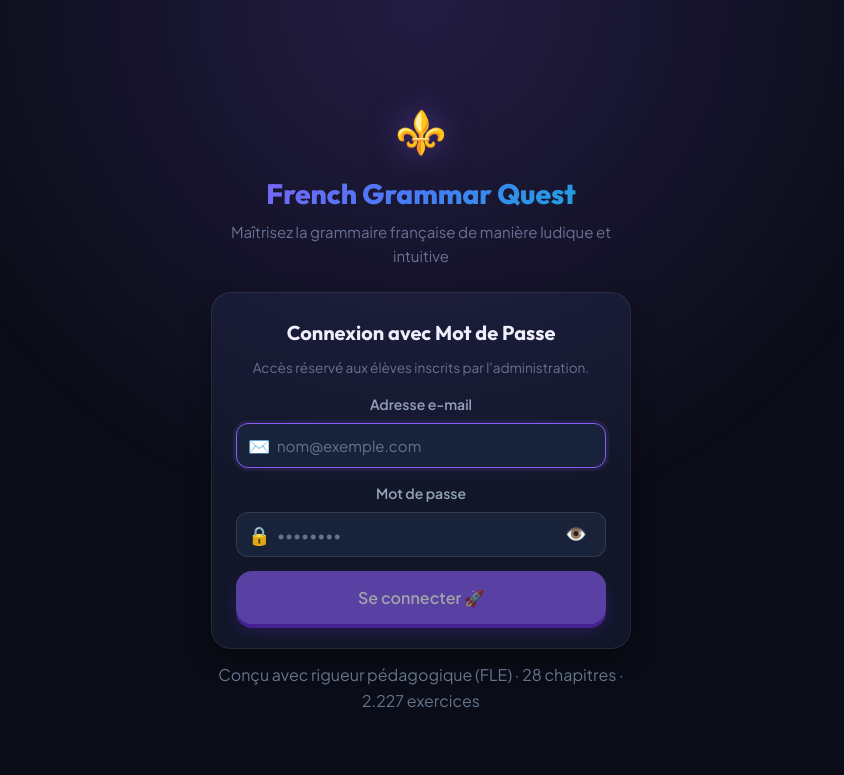
Test: LoginPage › displays error and rejects login for unregistered student
In the field labelled "Adresse e-mail": (421, 446) [236,423,606,468], type "non.inscrit@ecole.fr"
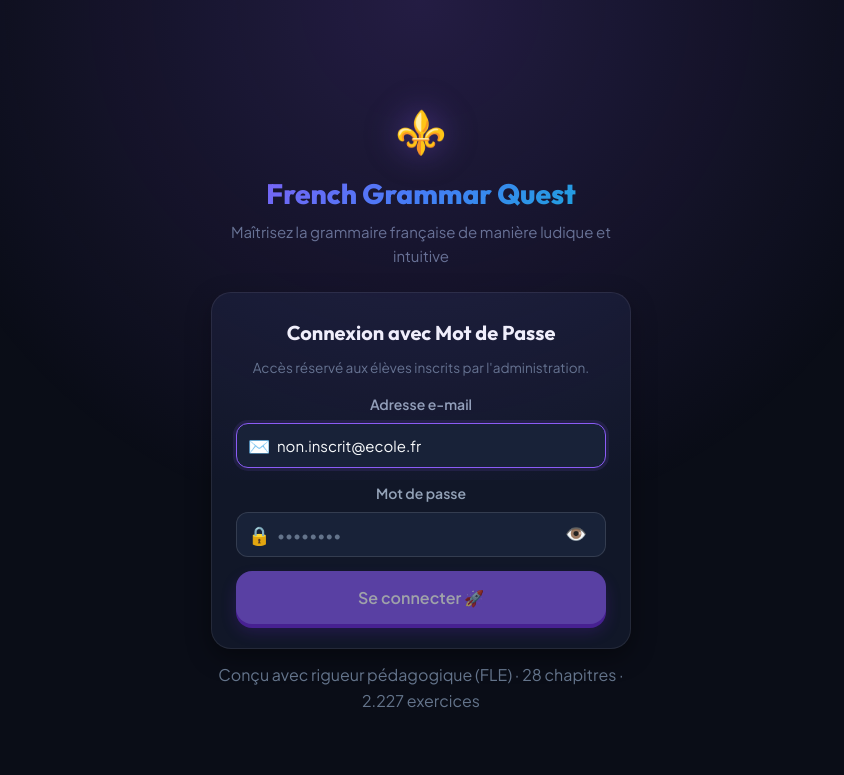
In the password field labelled "Mot de passe": (421, 535) [236,512,606,557], type "Pass12345!"
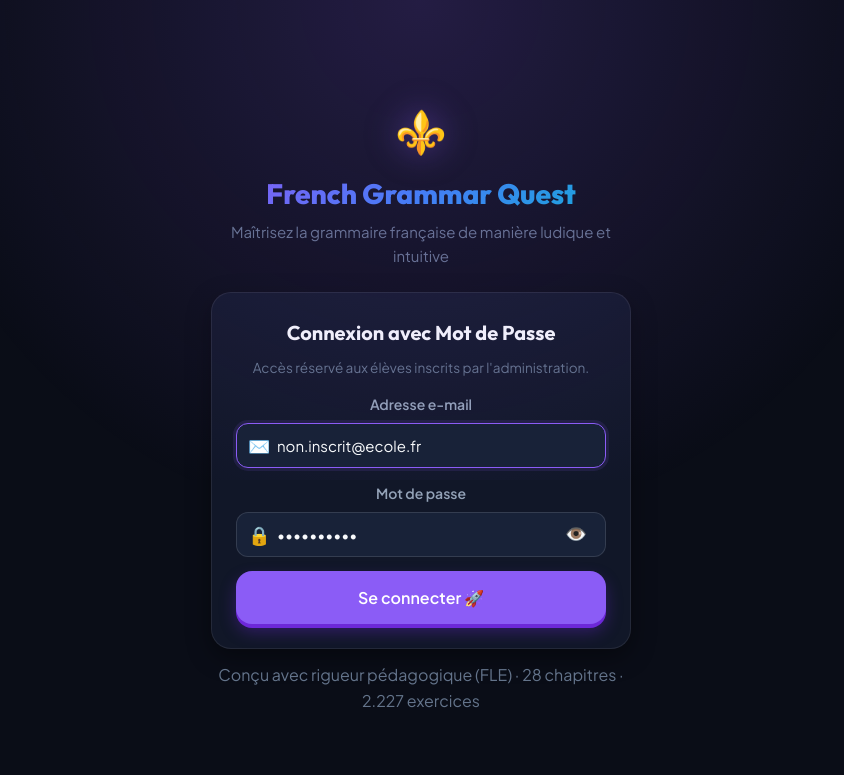
Now the button "Se connecter 🚀" is enabled
Click the button "Se connecter 🚀": click(421, 597) [236,571,606,624]
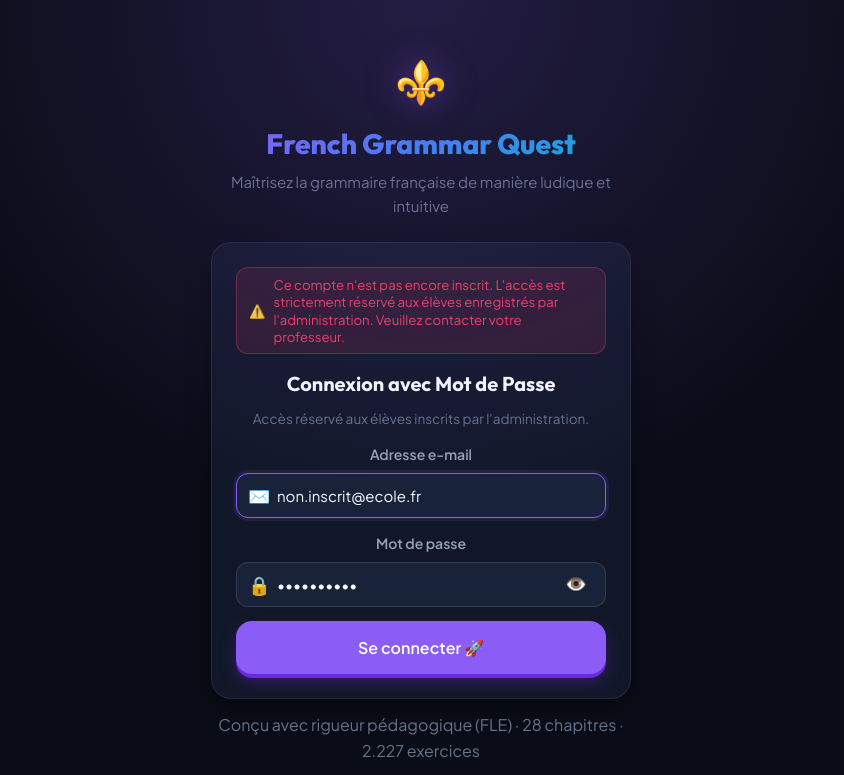
Now the message is shown, box [236,267,606,354]
Now the text "Ce compte n'est pas encore inscrit" is shown, box [274,276,566,345]
